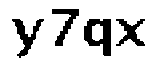7: (50, 6, 79, 54)
q: (82, 17, 114, 59)
x: (116, 16, 147, 48)
y: (9, 14, 47, 59)
